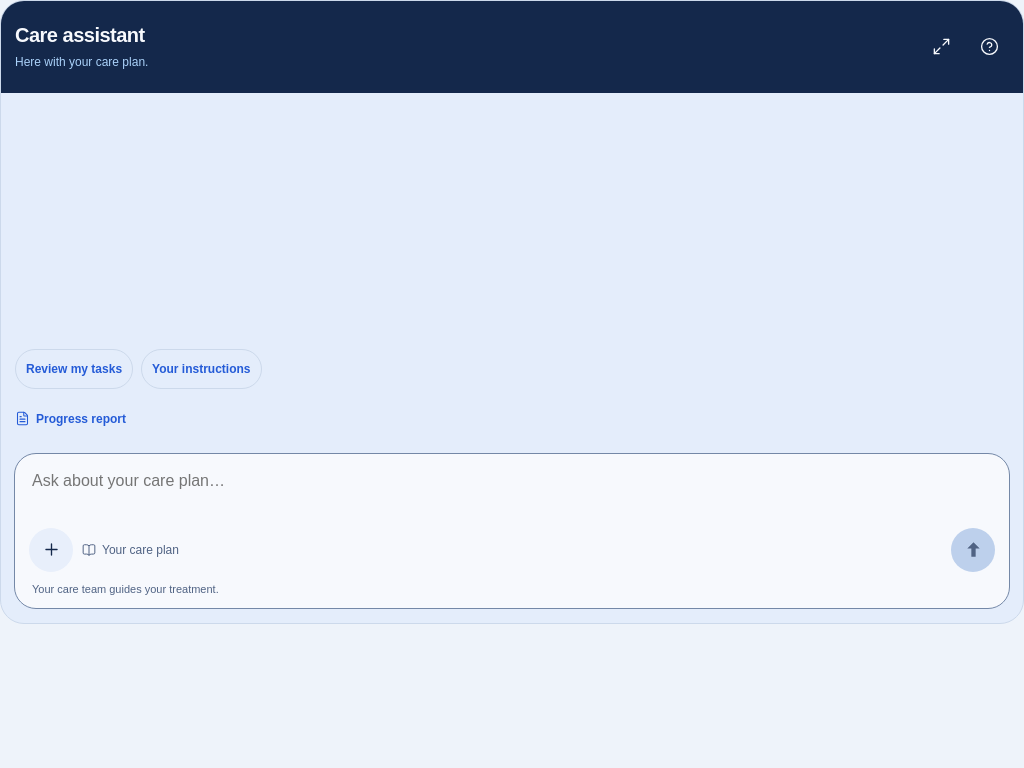
Scenario: keeps the question and explains the wait when chat answers 429
Click the button "Review my tasks" at (74, 369), box [15,349,133,389]
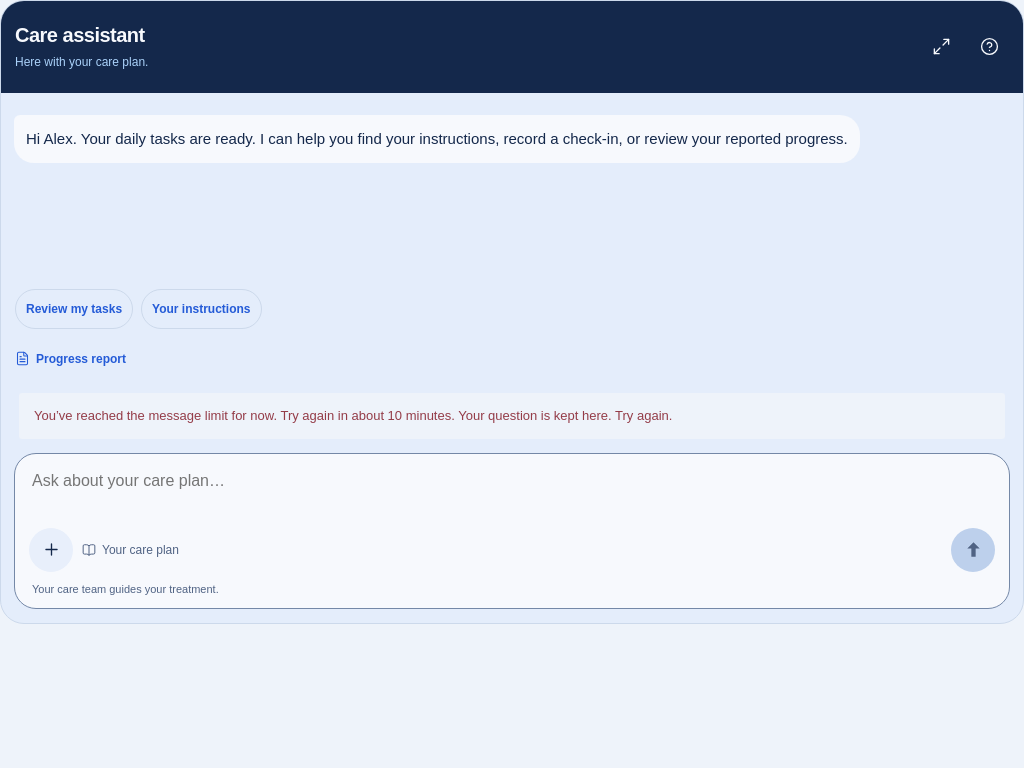
Expected: the message shows "about 10 minutes", [34,408,455,423]
